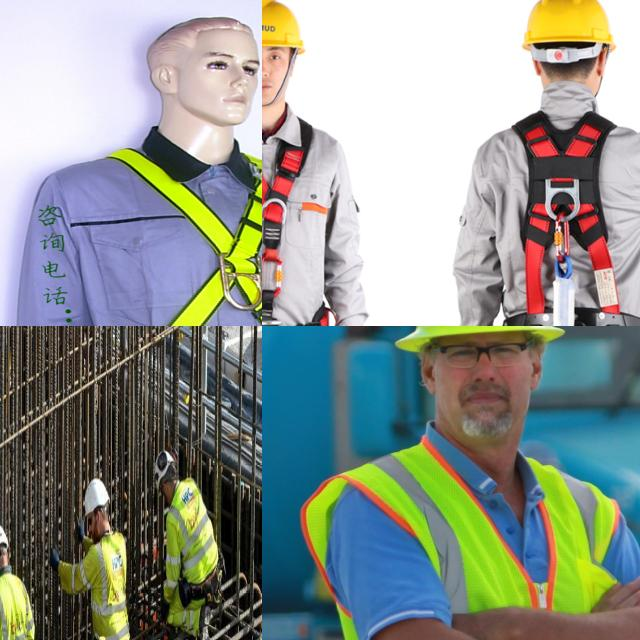Harness: (76, 138, 262, 326), (510, 108, 640, 326), (262, 115, 340, 326)
No_Ear-Protection: (418, 349, 440, 394), (527, 341, 547, 387)
face_nomask: (423, 333, 534, 445)
glasses: (438, 338, 534, 375)
head_helmet: (82, 474, 109, 516), (152, 449, 176, 489), (0, 521, 10, 561)
person: (300, 326, 640, 640), (49, 476, 139, 640), (155, 448, 226, 640), (0, 523, 67, 640)
vest: (353, 447, 634, 640), (167, 477, 218, 578), (84, 534, 130, 640), (0, 571, 33, 640)
